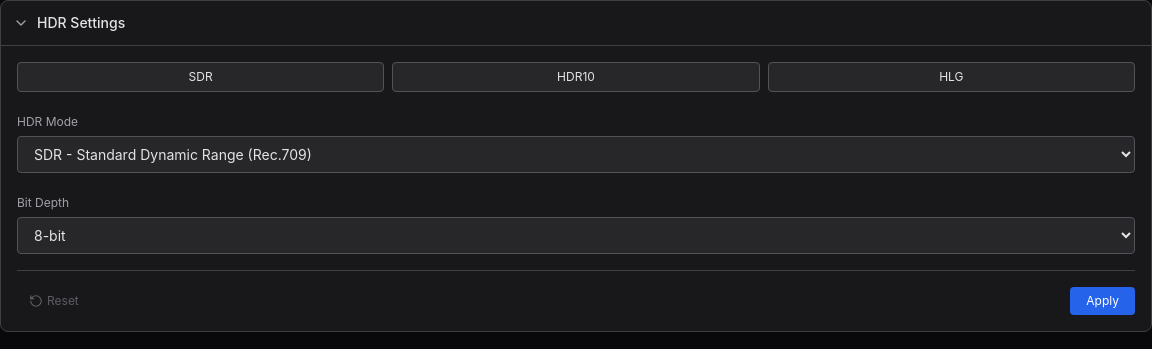
Test: HDRSettingsPanel › collapsed state › should toggle collapsed state
Expected: the dropdown labelled "HDR Mode" is shown, x1=17 y1=136 x2=1135 y2=173
# Click header to collapse
Click the heading "HDR Settings" at (81, 23), box x1=37 y1=13 x2=125 y2=33
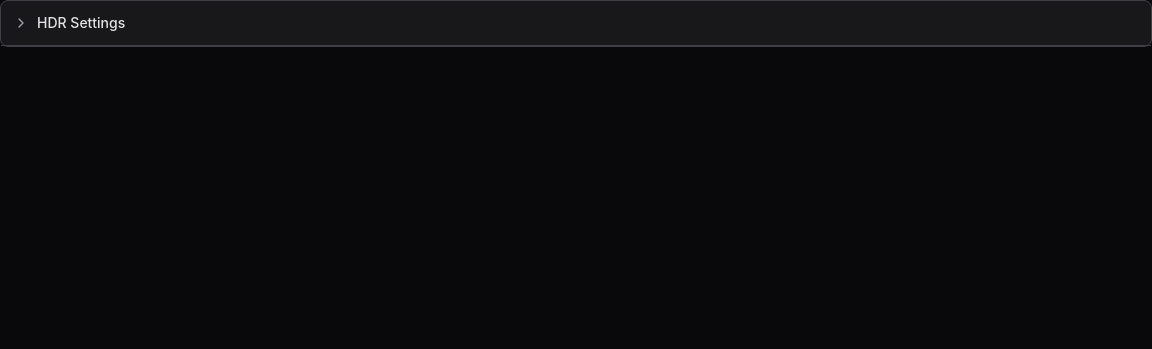
Expected: the label labelled "HDR Mode" is gone
